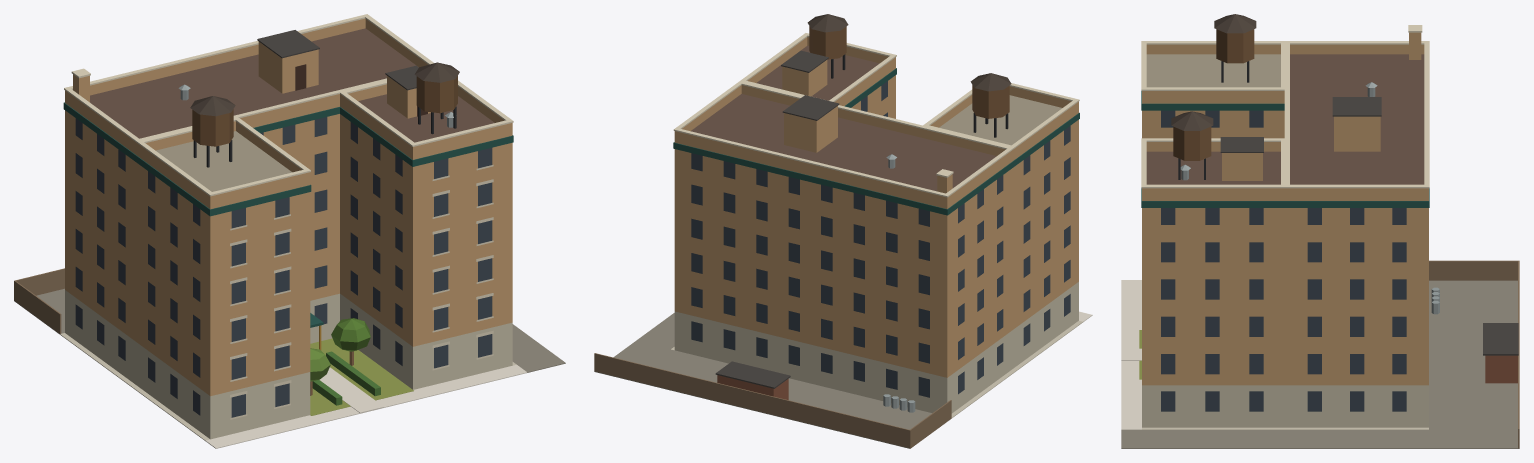
Rendered from modernflats_b.glb.
3 views of the same model, side by side, from view 1: azimuth 30°, elevation 25°; view 2: azimuth 150°, elevation 25°; view 3: azimuth 270°, elevation 25° (orthographic). The views are drawn at different scales.
Parts seen in each view (by area): view 1: modernflats_b; view 2: modernflats_b; view 3: modernflats_b.
Boxes of the visible parts, left/top/right/bottom form: modernflats_b: left=14, top=14, right=565, bottom=448; modernflats_b: left=594, top=14, right=1092, bottom=448; modernflats_b: left=1121, top=14, right=1519, bottom=448.
Size of the model in its own units: 30 by 24.38 by 30.
